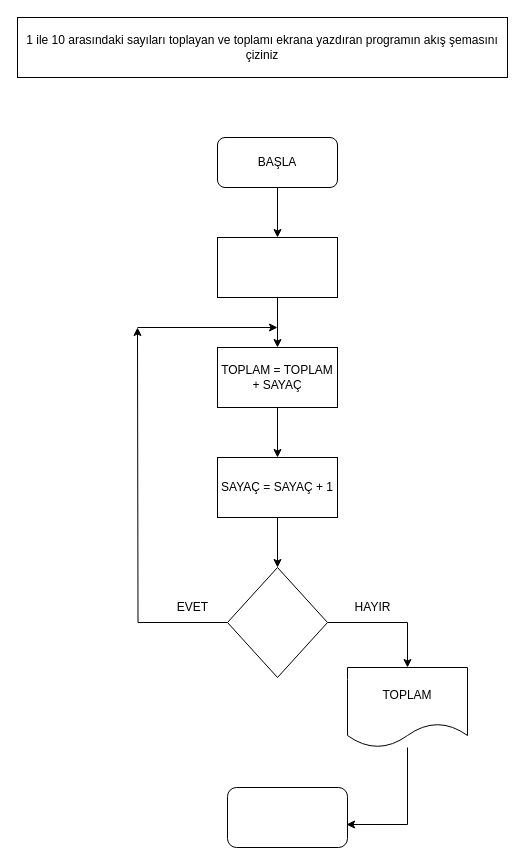
Some shapes in this 525 by 865 pixel diagram are drawn without their labels. Here are the shapes that lost their labels. From the top down, the box of each, then its label:
(216, 236, 338, 298): TOPLAM = 0 SAYAÇ = 1
(226, 566, 328, 678): SAYAÇ <= 10
(226, 786, 348, 848): SON
